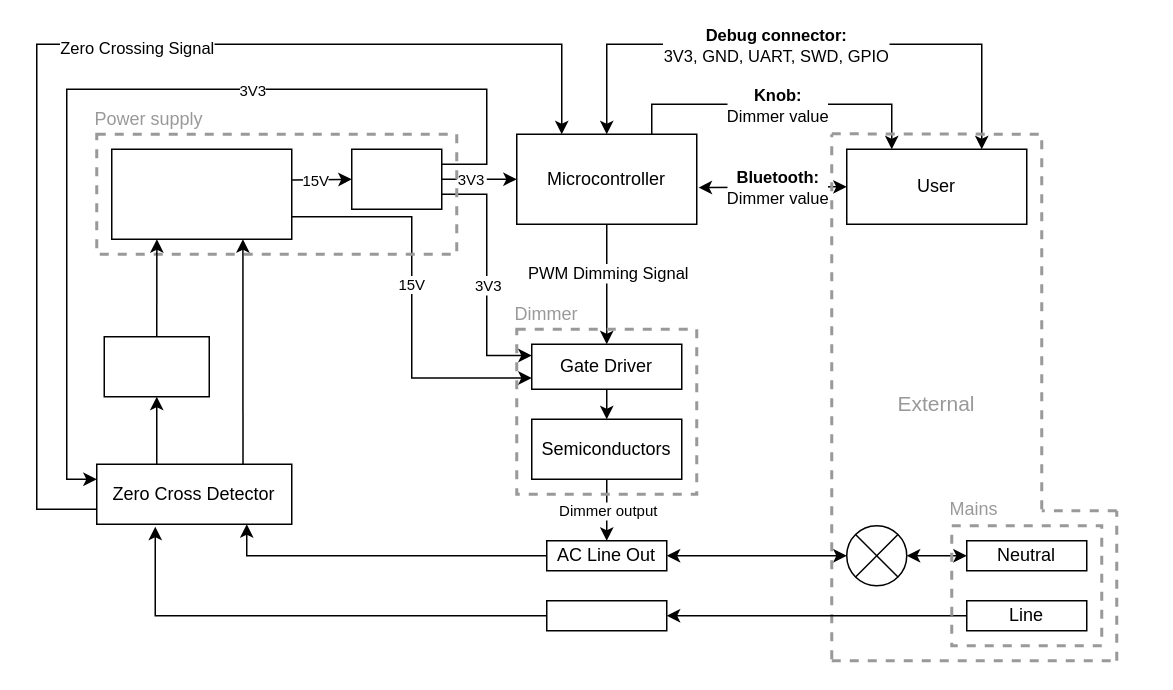
The diagram is 1173 pixels wide and 690 high, and some of its shapes have lost their labels. Here are the shapes that lost their labels. From the top down, the box of each, then its label:
(110, 148, 292, 239): Switching Power Supply
(350, 148, 442, 209): LDO
(103, 335, 209, 397): Half Wave Rectifier
(545, 599, 667, 631): AC Line In
